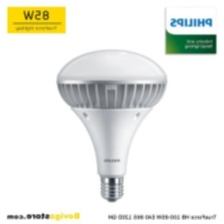light_bulb: (50, 45, 170, 204)
